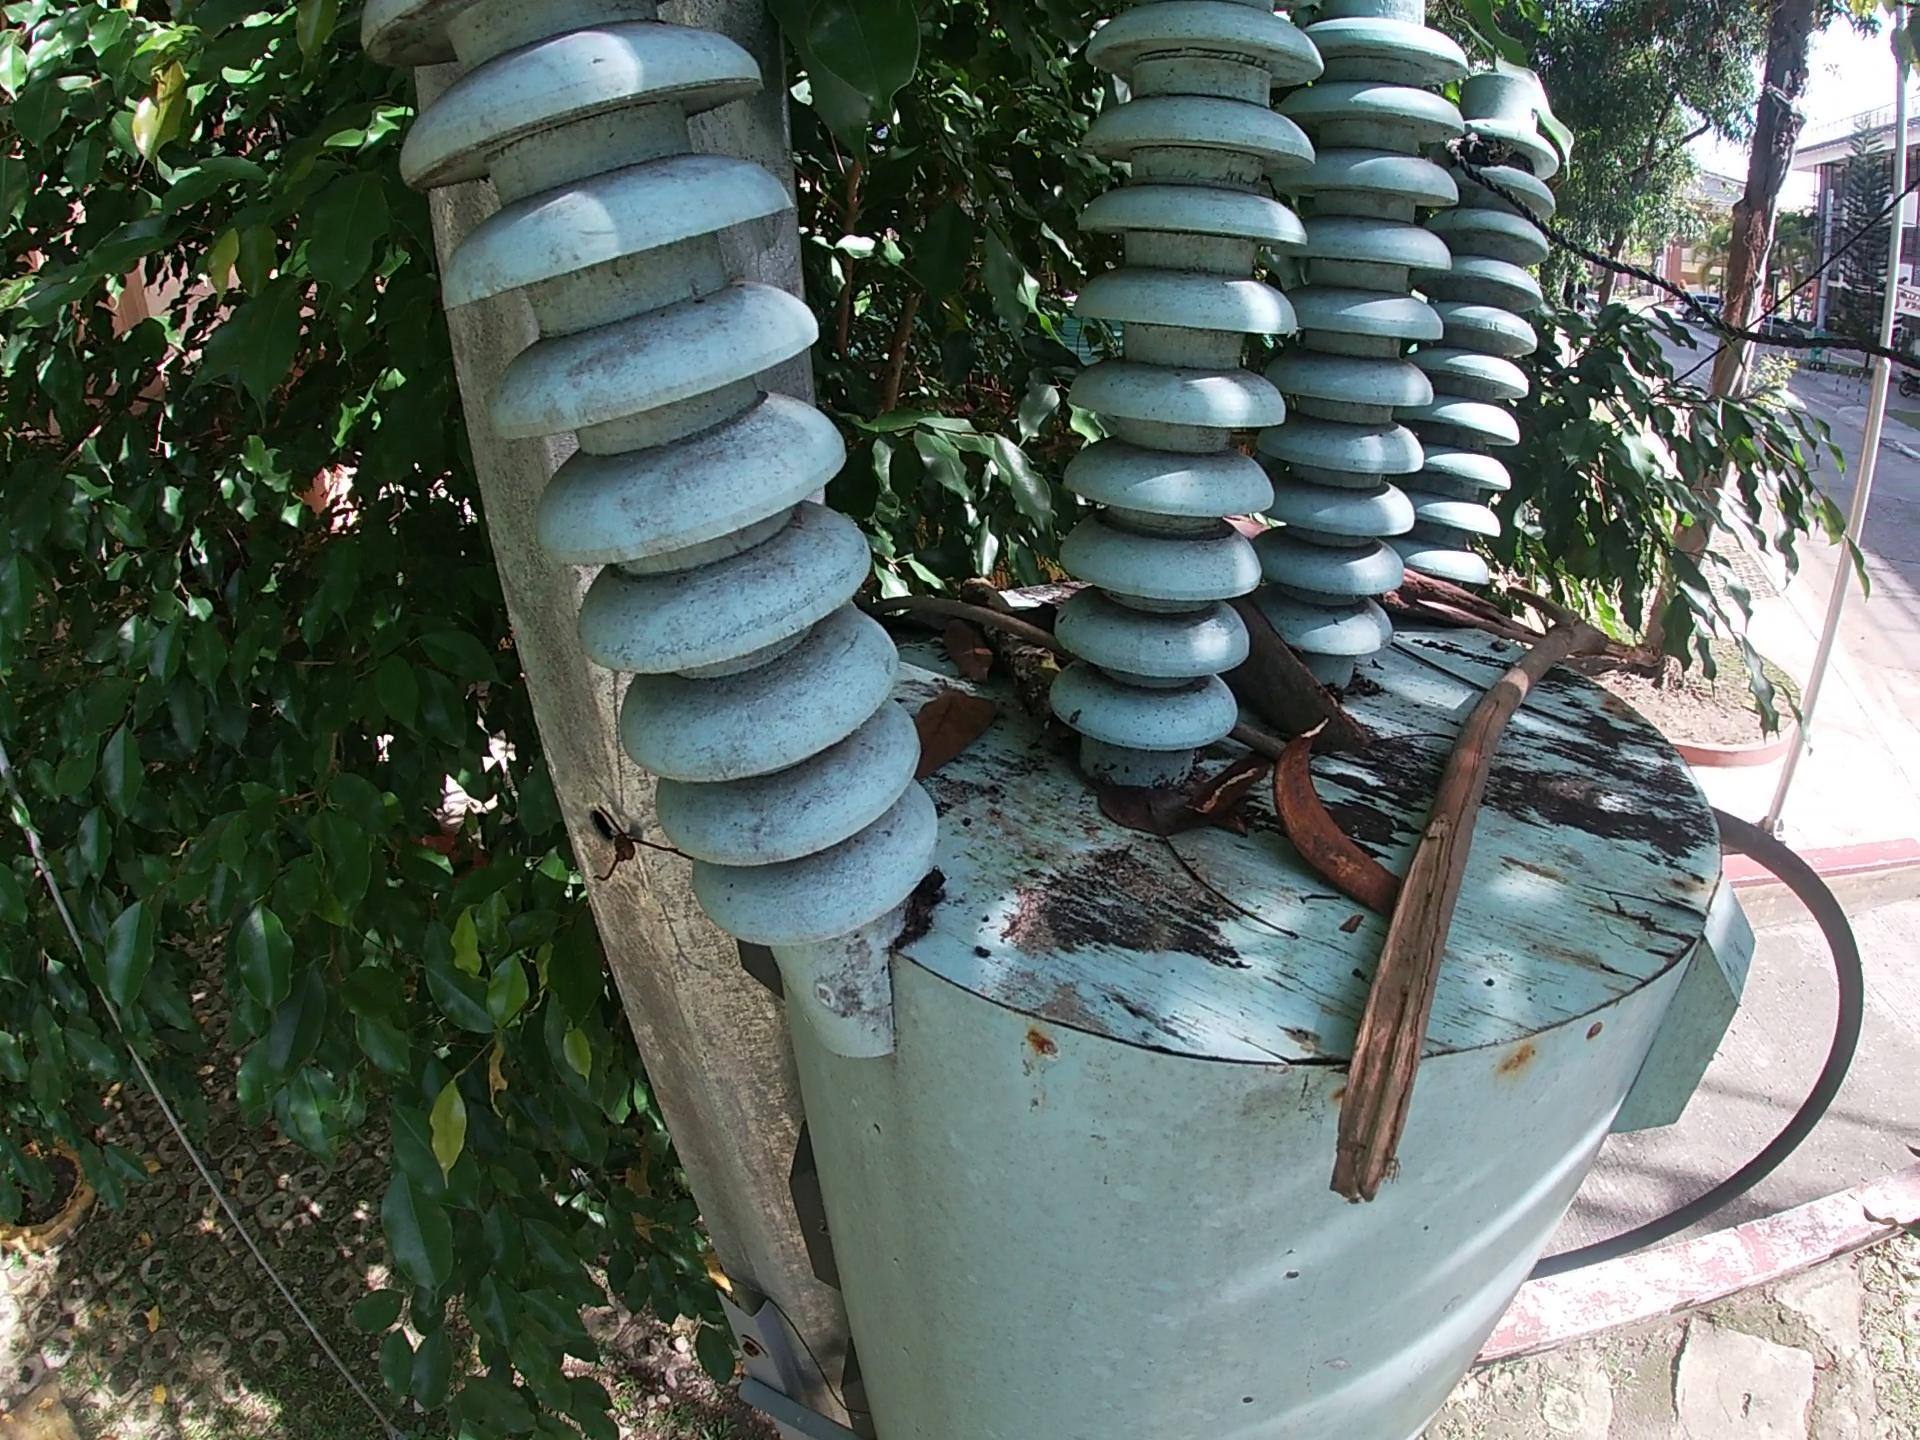leaf: (921, 675, 1013, 764), (1079, 774, 1172, 829)
mahogany fruit: (1271, 737, 1397, 914), (1244, 608, 1373, 746)
tree branch: (1311, 587, 1671, 1231), (1391, 644, 1625, 740), (1155, 812, 1311, 953), (949, 573, 1070, 718), (1394, 576, 1534, 650), (866, 590, 1060, 640), (1169, 761, 1259, 818), (1228, 725, 1281, 765), (1240, 505, 1271, 551)
